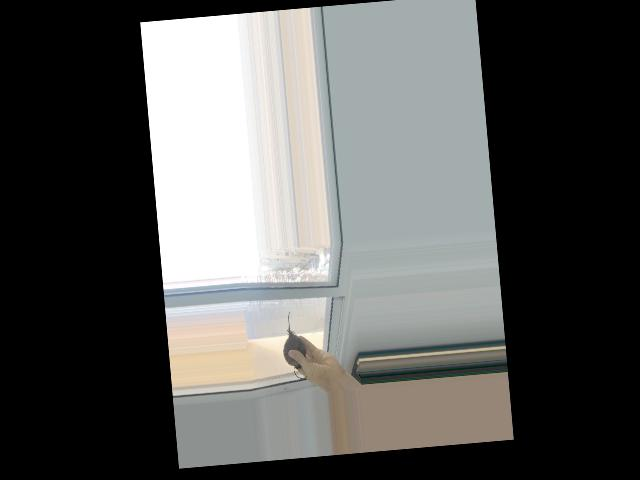beet: (280, 309, 315, 379)
